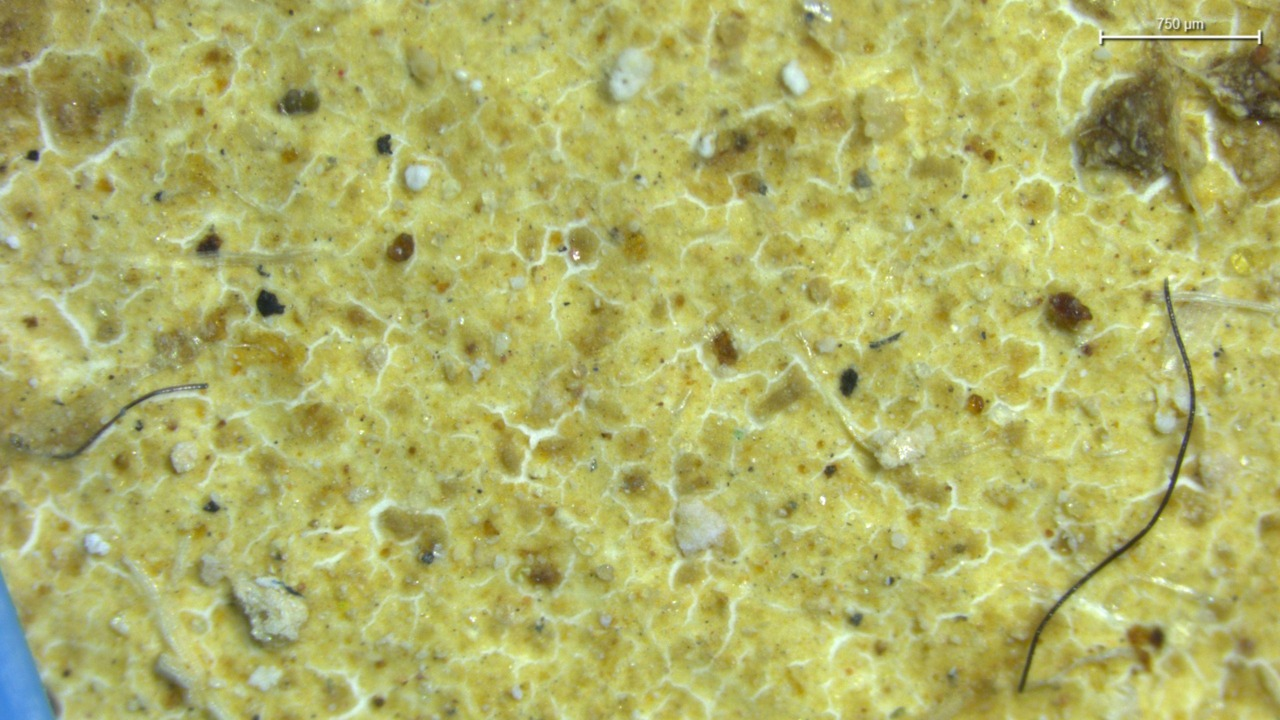microplastic_fragment: (233, 578, 308, 644), (868, 425, 935, 469), (676, 499, 727, 555), (404, 164, 432, 192)
